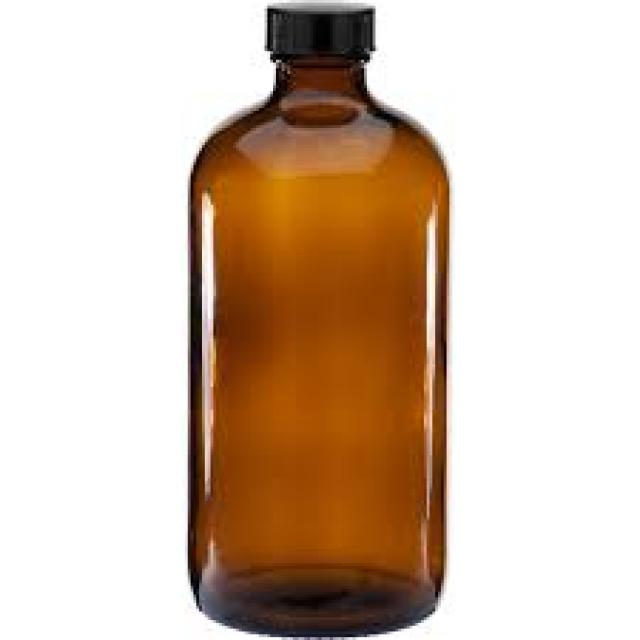glass: (188, 54, 444, 632)
plastic: (265, 0, 373, 60)
